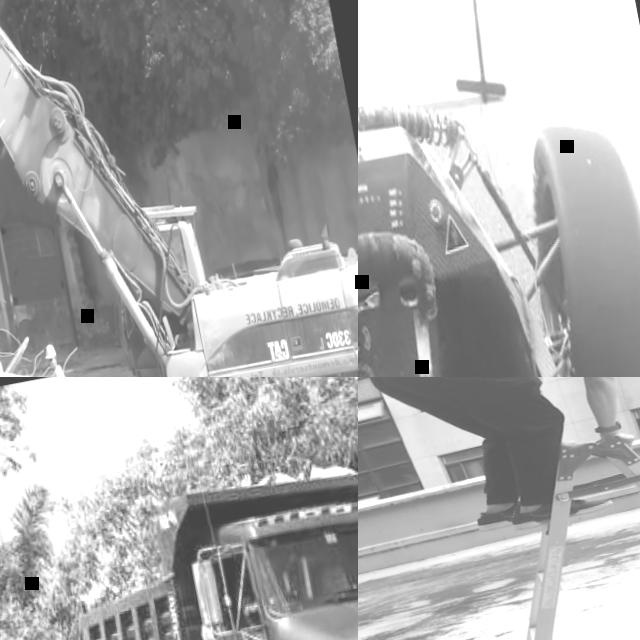Hardhat: (43, 343, 58, 360)
NO-Mask: (49, 360, 57, 369)
Person: (358, 377, 640, 554), (40, 338, 87, 377)
machinery: (0, 0, 358, 377), (56, 438, 358, 640)
vehicle: (358, 0, 640, 377)
